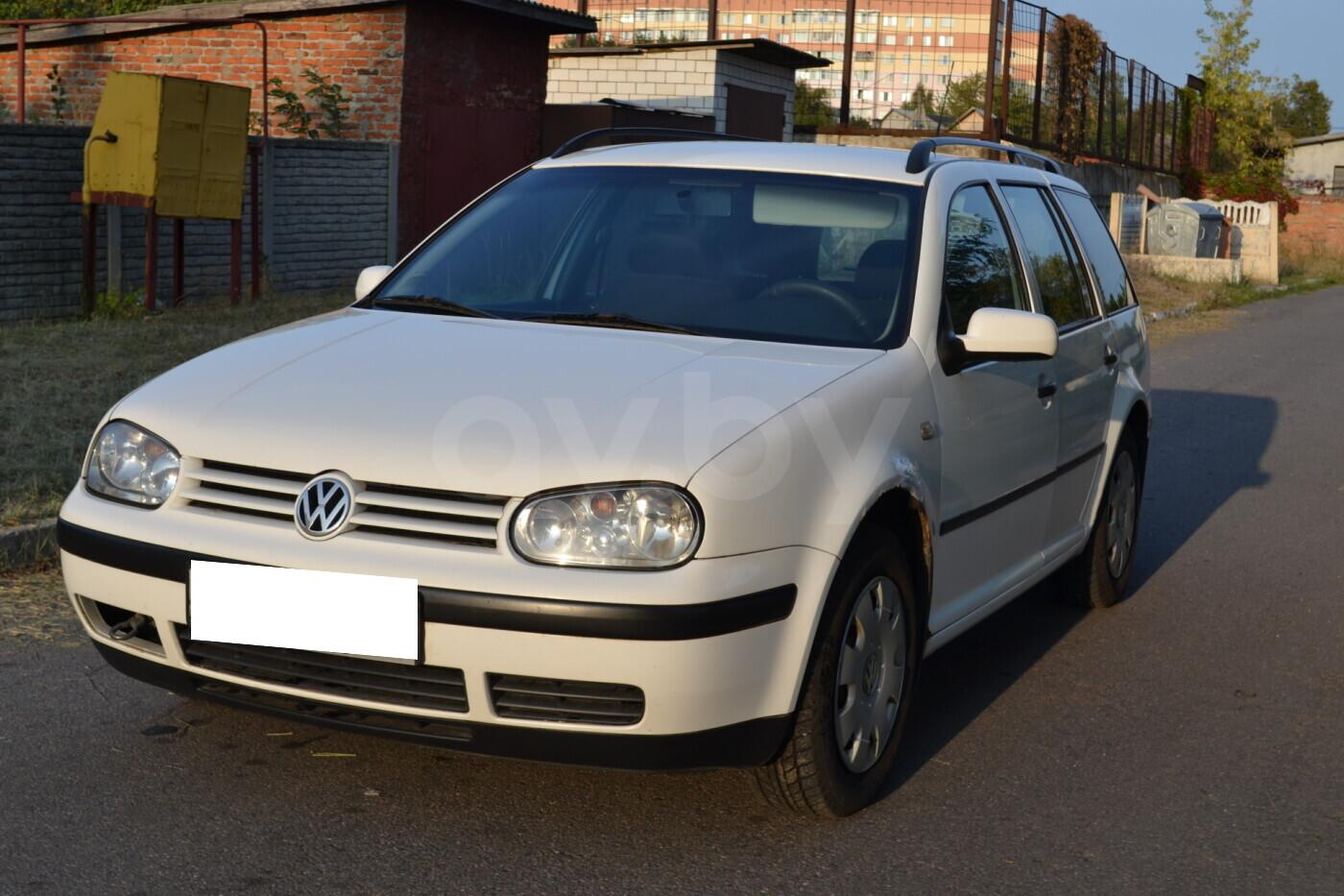Golf_1997-2006: (53, 128, 1164, 816)
